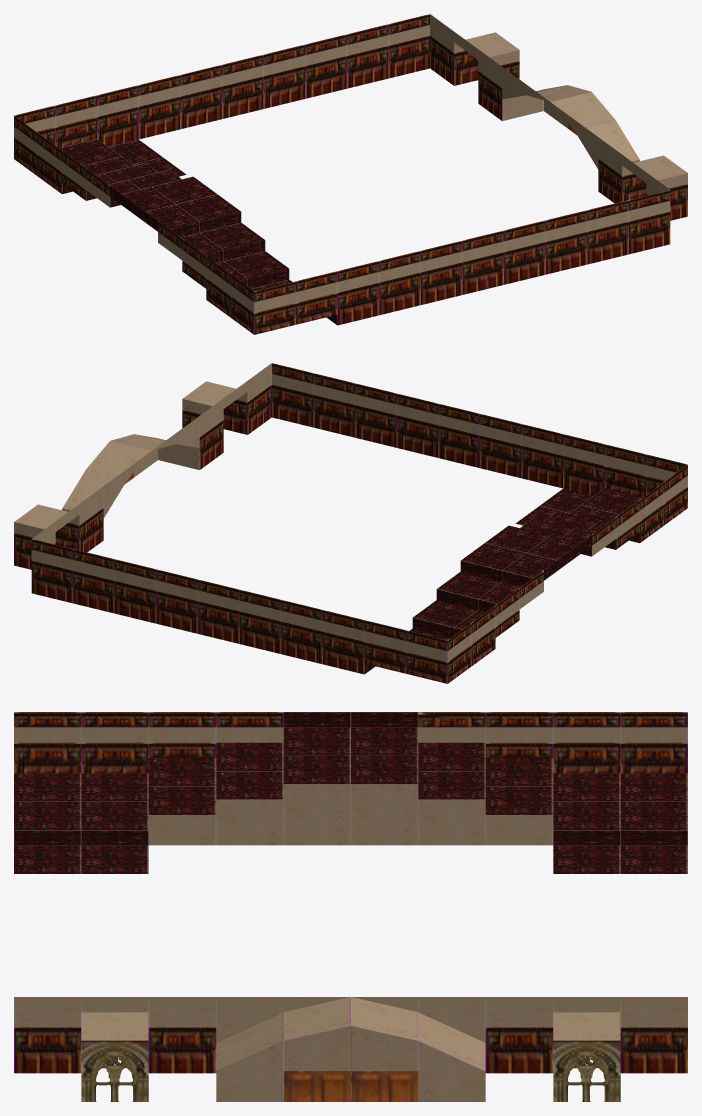
File: dataRoom3.obj
3 renders of one model, top to bottom at view 1: azimuth 30°, elevation 25°; view 2: azimuth 150°, elevation 25°; view 3: azimuth 270°, elevation 25°, orthographic. The views are drawn at different scales.
Parts seen in each view (by area): view 1: Texture_212_mesh_.003; view 2: Texture_212_mesh_.003; view 3: Texture_212_mesh_.003.
Boxes of the visible parts, x1=… form: Texture_212_mesh_.003: x1=14, y1=14, x2=687, y2=334; Texture_212_mesh_.003: x1=14, y1=363, x2=687, y2=683; Texture_212_mesh_.003: x1=14, y1=712, x2=687, y2=1101.
Size of the model in its own units: 11.26 by 1.28 by 10.24.
